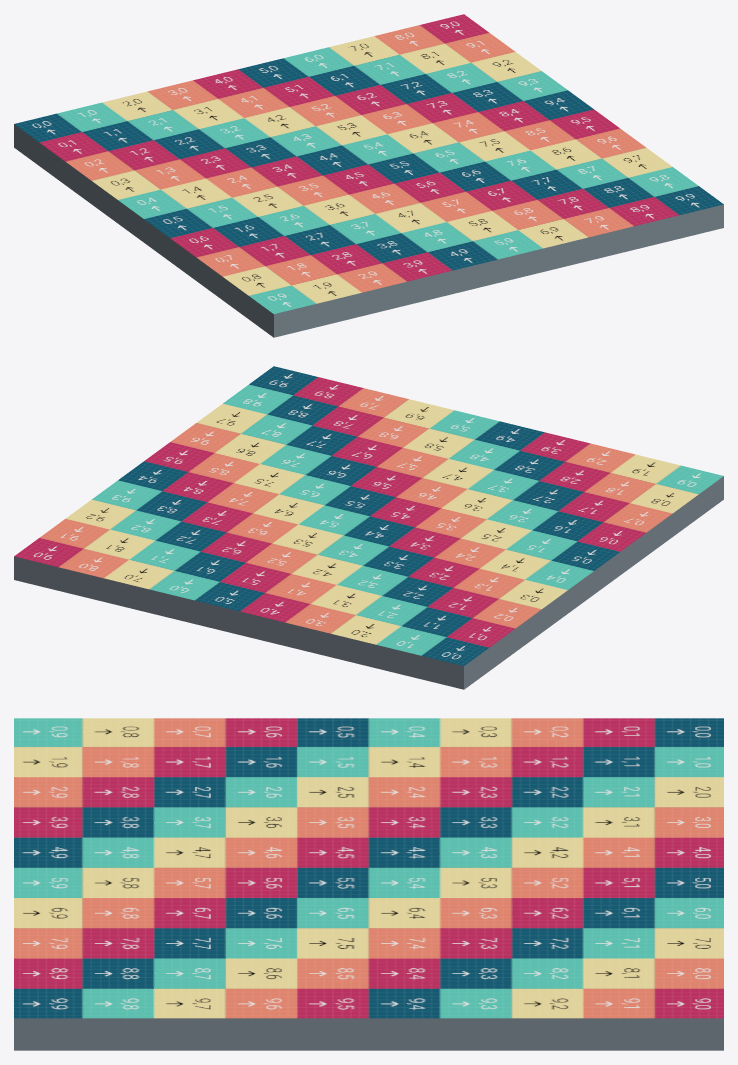
The model's file is jimen3.fbx.
The picture shows the model from 3 angles, top to bottom: view 1: azimuth 30°, elevation 25°; view 2: azimuth 150°, elevation 25°; view 3: azimuth 270°, elevation 25°; orthographic projection. The views are drawn at different scales.
Visible parts, largest first — view 1: pCube1; view 2: pCube1; view 3: pCube1.
Part boxes in pixels (x1,y1,x2,y2): pCube1: (14, 14, 723, 337); pCube1: (14, 366, 723, 689); pCube1: (14, 718, 723, 1050).
Bounding box in the file's own units: 20 × 1 × 20.
Materials: 1 (1 with a texture image).
